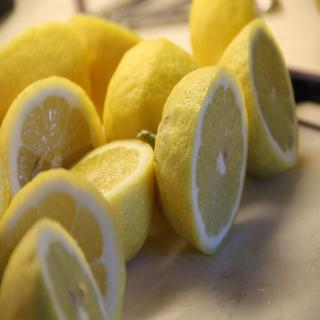Lemon: (0, 0, 296, 320), (154, 64, 249, 254)
